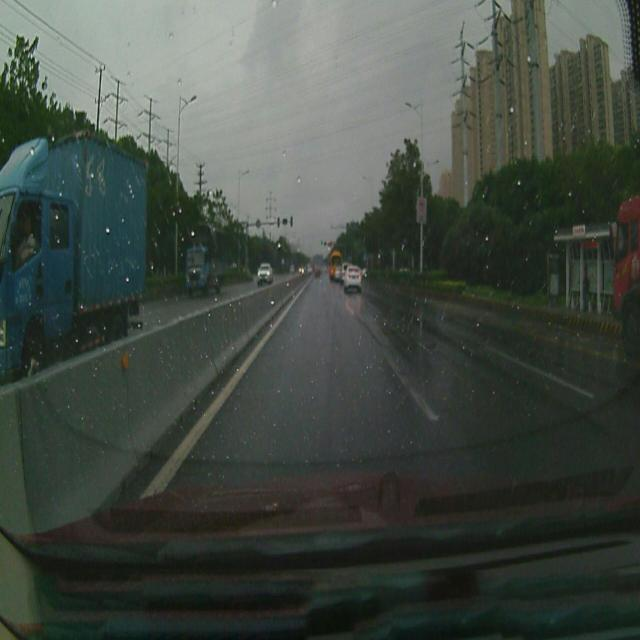car: (344, 268, 362, 292), (256, 264, 274, 286), (334, 266, 344, 282)
